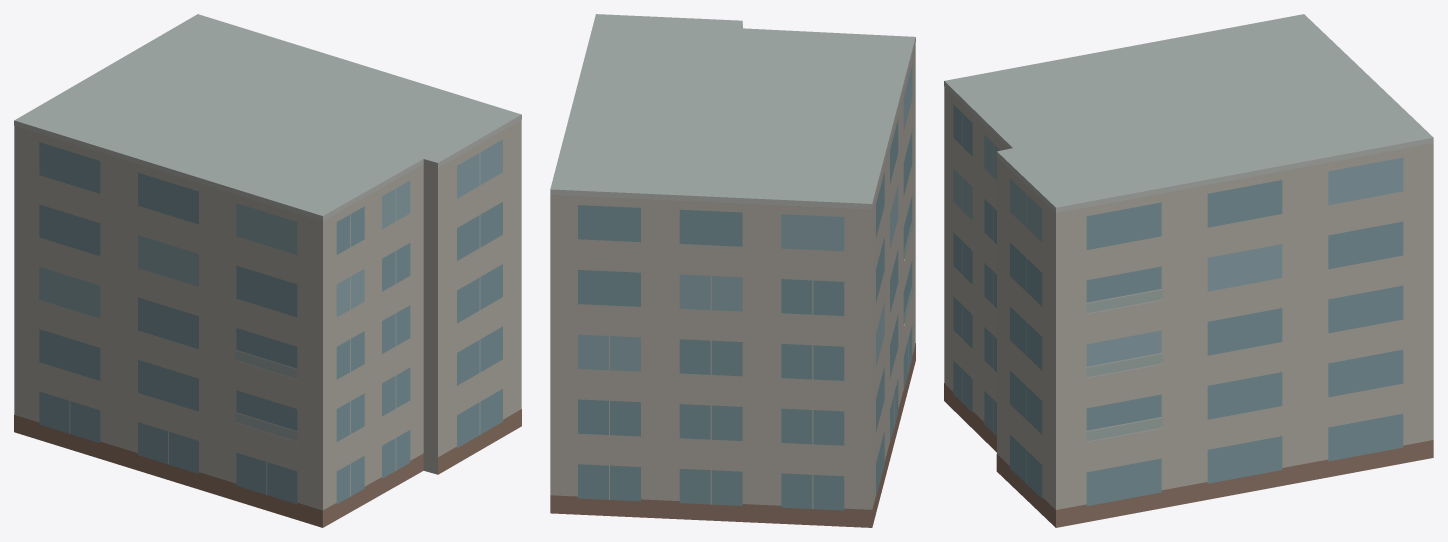
Rendered from survey-upis-32750866.glb.
3 renders of one model, left to right at view 1: azimuth 30°, elevation 25°; view 2: azimuth 150°, elevation 25°; view 3: azimuth 270°, elevation 25°, orthographic. The views are drawn at different scales.
Visible parts, largest first — view 1: survey-upis-32750866.tmp; view 2: survey-upis-32750866.tmp; view 3: survey-upis-32750866.tmp.
Part boxes in pixels (bbox=[...]): survey-upis-32750866.tmp: bbox=[14, 14, 521, 527]; survey-upis-32750866.tmp: bbox=[550, 14, 915, 527]; survey-upis-32750866.tmp: bbox=[944, 14, 1433, 527].
Bounding box in the file's own units: 19.09 × 14.7 × 20.38.
